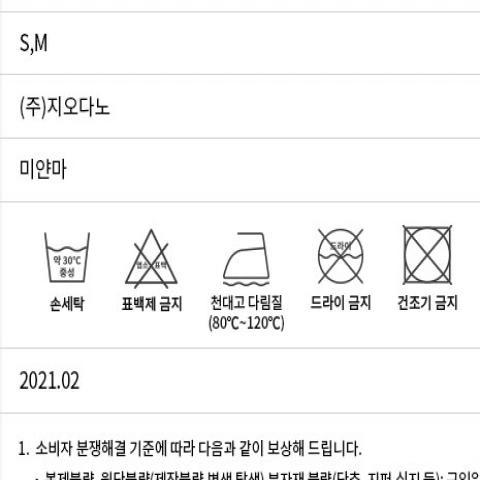30C: (36, 224, 97, 287)
DN_dry_clean: (310, 222, 371, 286)
DN_tumble_dry: (396, 221, 460, 289)
iron: (218, 225, 275, 289)
non_chlorine_bleach: (122, 223, 182, 290)
